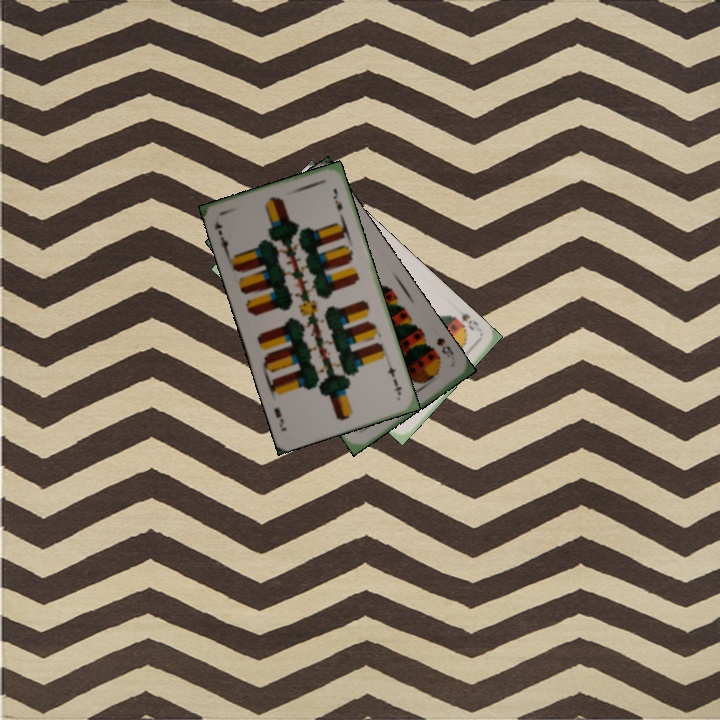E7: (210, 216, 231, 256), (384, 363, 404, 398)
S8: (432, 333, 457, 360)
SO: (446, 303, 481, 333)
